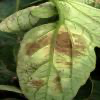Tomato mold leaf: (12, 3, 97, 99), (0, 3, 51, 37)
